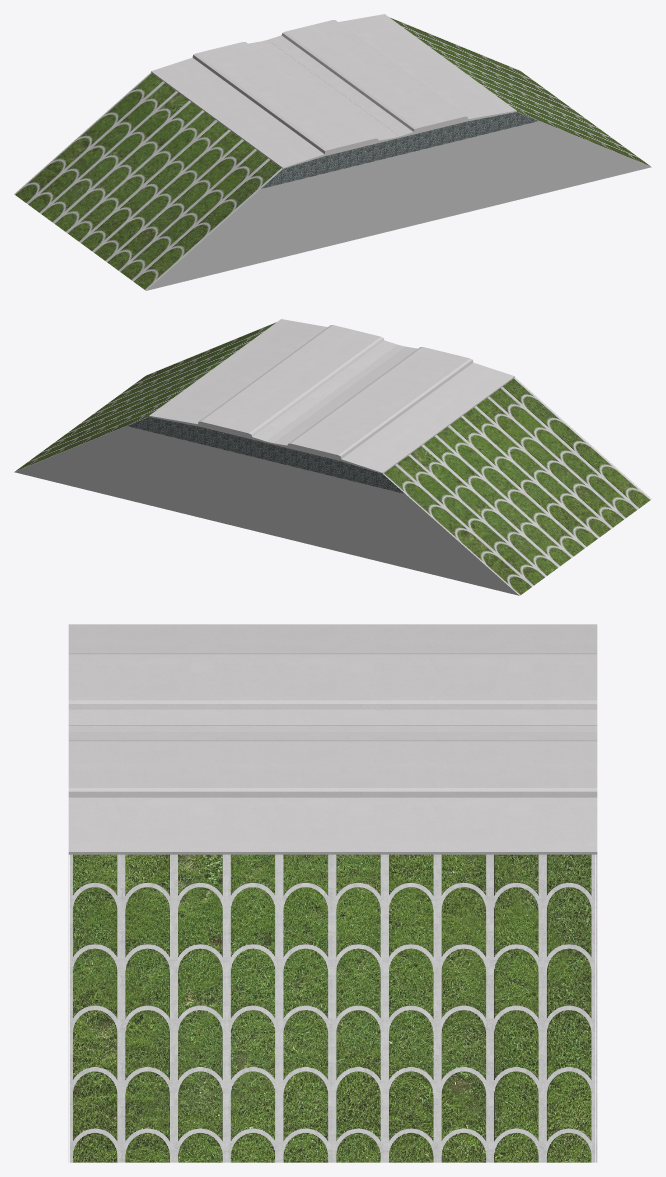
The model's file is 无砟轨道双线路基.fbx.
3 renders of one model, top to bottom at view 1: azimuth 30°, elevation 25°; view 2: azimuth 150°, elevation 25°; view 3: azimuth 270°, elevation 25°, orthographic. The views are drawn at different scales.
Parts seen in each view (by area): view 1: 基床, 表层; view 2: 基床, 表层; view 3: 基床, 表层.
Boxes of the visible parts, box(x1,y1,x2,y2) form: 基床: box(14, 17, 651, 290); 表层: box(151, 14, 516, 168); 基床: box(14, 322, 651, 595); 表层: box(149, 319, 514, 473); 基床: box(68, 854, 597, 1162); 表层: box(68, 624, 597, 854).
Bounding box in the file's own units: 44.21 × 8.06 × 20.
